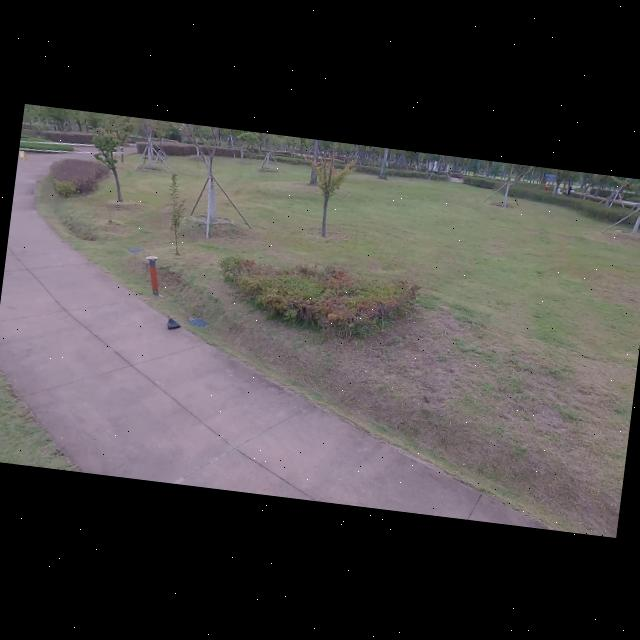trash: (164, 310, 182, 332)
